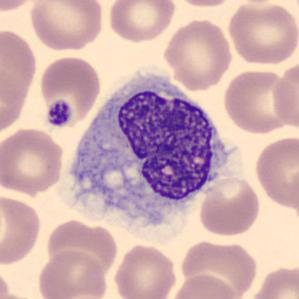Monocyte: (61, 65, 243, 228)
Platelets: (43, 98, 75, 130)
RBC: (161, 16, 234, 91), (176, 236, 261, 298), (42, 217, 120, 282), (221, 67, 294, 136), (37, 54, 103, 130), (224, 0, 298, 67), (0, 125, 66, 197), (0, 25, 40, 136), (26, 0, 106, 53), (196, 174, 262, 238), (34, 247, 109, 299), (111, 242, 179, 299), (252, 134, 299, 211), (0, 192, 43, 266), (105, 0, 177, 43), (270, 58, 299, 133), (247, 262, 299, 299), (168, 272, 238, 299), (0, 0, 47, 14), (167, 0, 240, 8), (0, 265, 12, 299), (0, 291, 47, 299)
